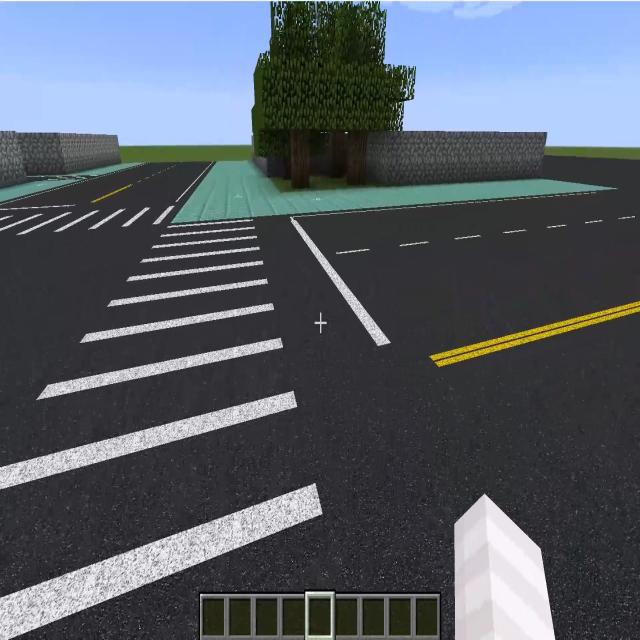crosswalk: (0, 215, 382, 633), (0, 197, 185, 232)
road: (263, 156, 640, 639), (0, 235, 147, 437), (21, 163, 214, 199)
sidewalk: (172, 160, 605, 223), (0, 179, 82, 202), (72, 163, 142, 175)
